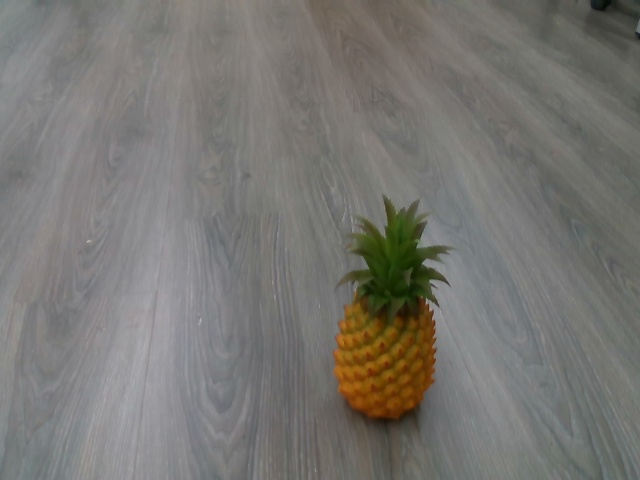pineapple: (330, 189, 456, 426)
